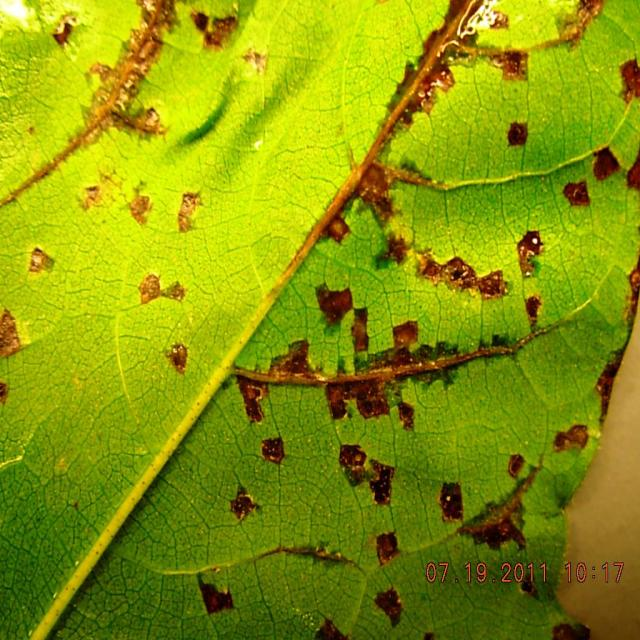Bacterial Blight: (253, 7, 611, 524)
